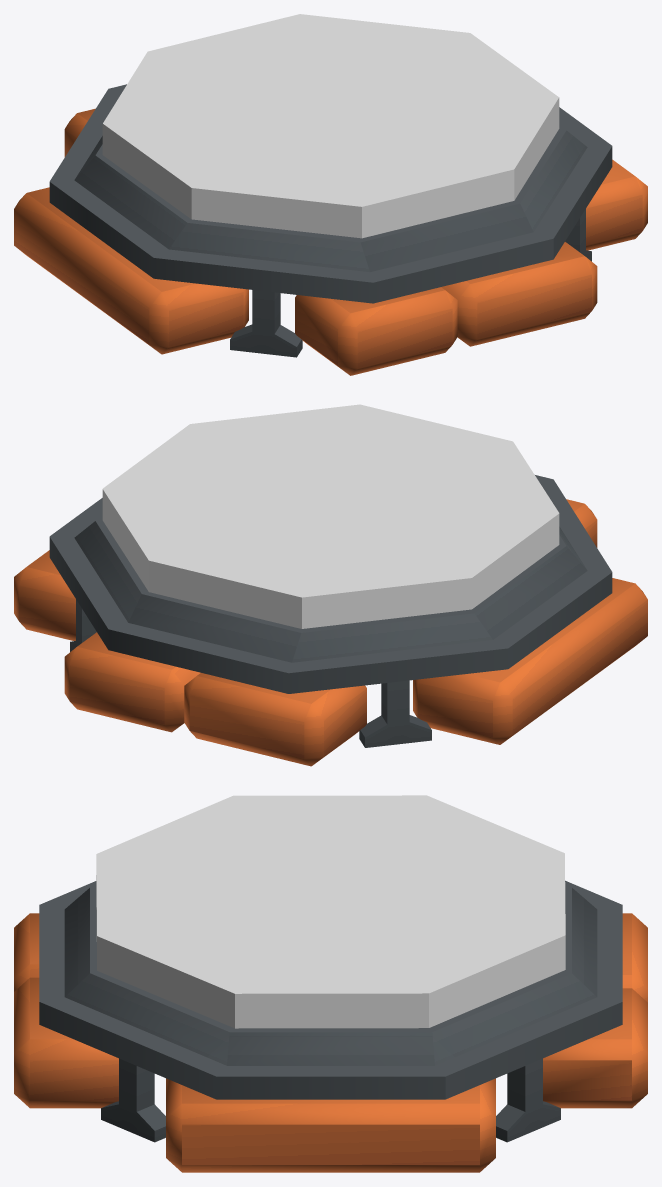
File: launchpad.glb
3 views of the same model, one above another, from view 1: azimuth 30°, elevation 25°; view 2: azimuth 150°, elevation 25°; view 3: azimuth 270°, elevation 25° (orthographic). The views are drawn at different scales.
Parts seen in each view (by area): view 1: Launchpad_Mesh, Launchpad_Trigger; view 2: Launchpad_Mesh, Launchpad_Trigger; view 3: Launchpad_Mesh, Launchpad_Trigger.
Part boxes in pixels (x1,y1,x2,y2): Launchpad_Mesh: (14,84,647,375); Launchpad_Trigger: (102,14,559,238); Launchpad_Mesh: (14,475,647,766); Launchpad_Trigger: (102,404,559,628); Launchpad_Mesh: (14,880,647,1172); Launchpad_Trigger: (96,795,565,1028).
Size of what is drawn, in the model's own units: 2.5 by 0.6553 by 2.5.
Materials: 1 (1 with a texture image).
